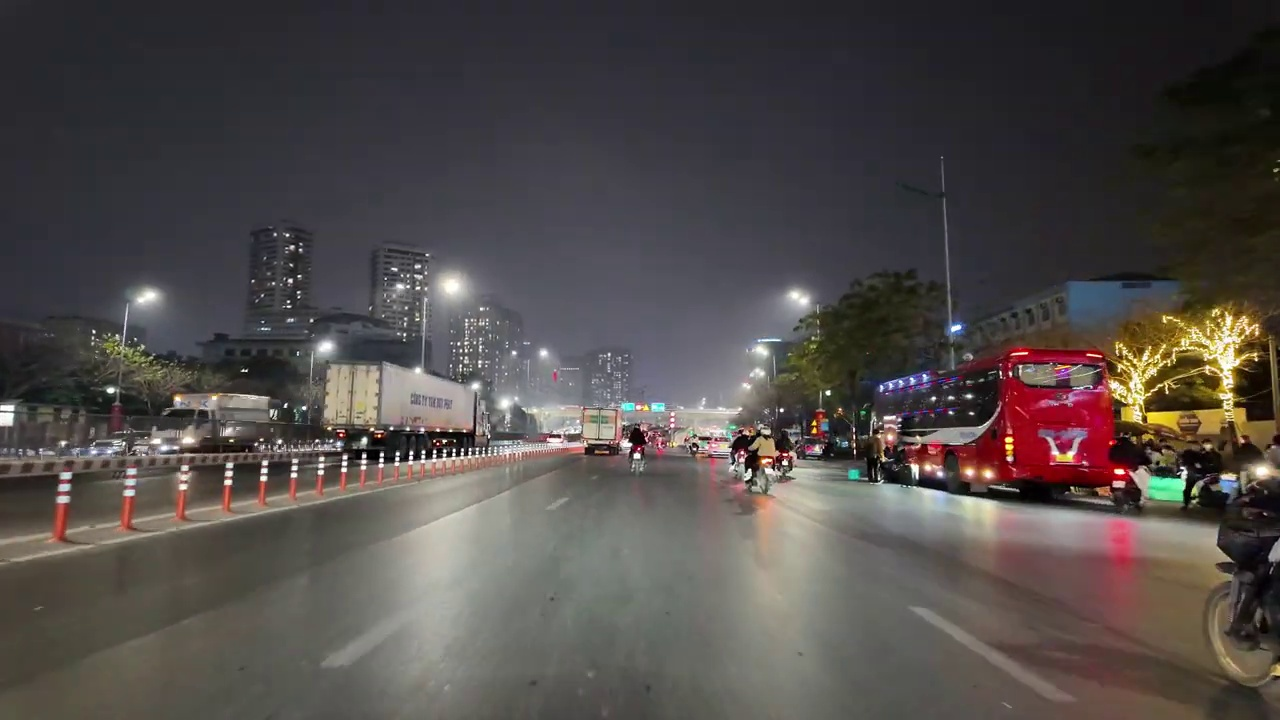acesa: (783, 284, 813, 313), (436, 273, 465, 300), (132, 285, 163, 310), (312, 337, 336, 360), (534, 347, 555, 368)
